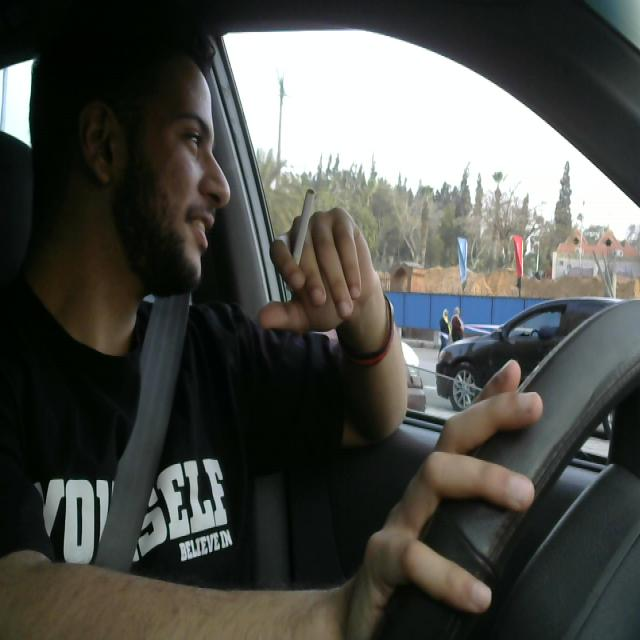smoking: (287, 180, 321, 273)
